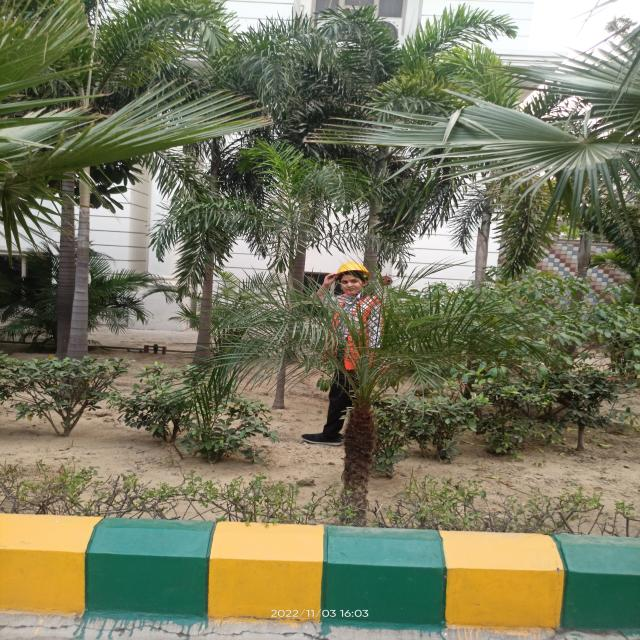safe: (303, 260, 384, 447)
